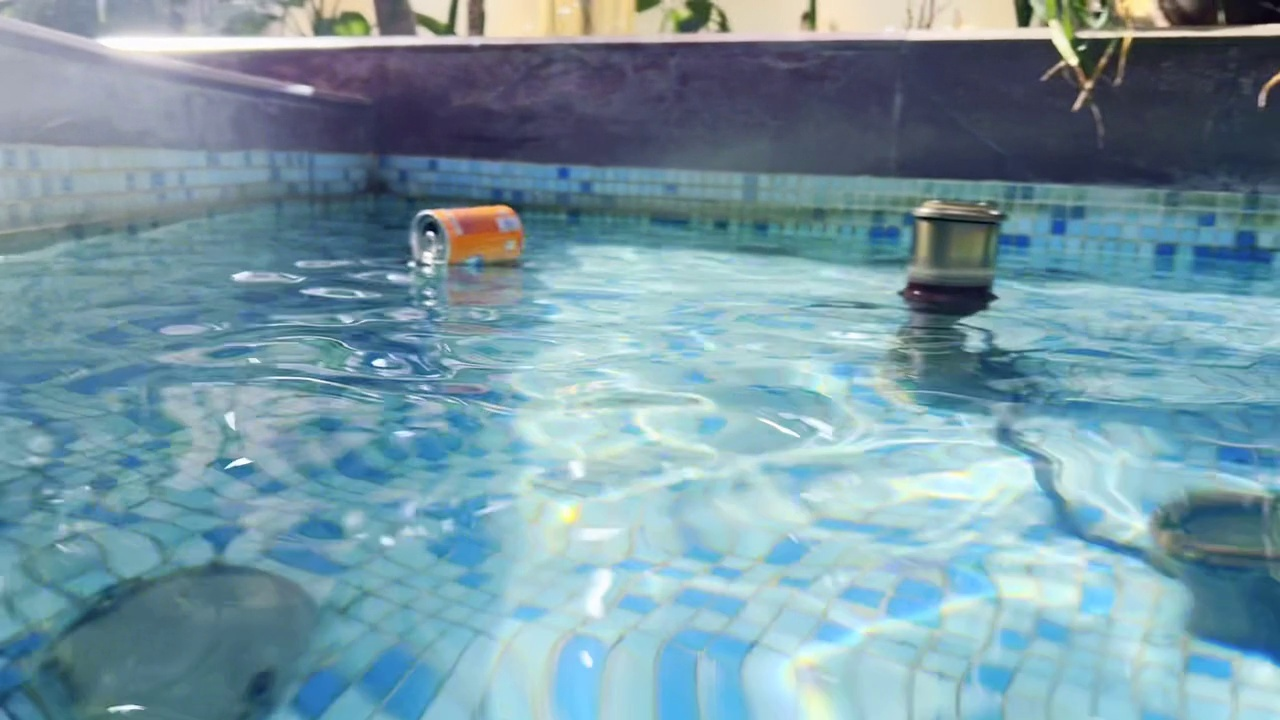debris: (401, 195, 522, 272)
